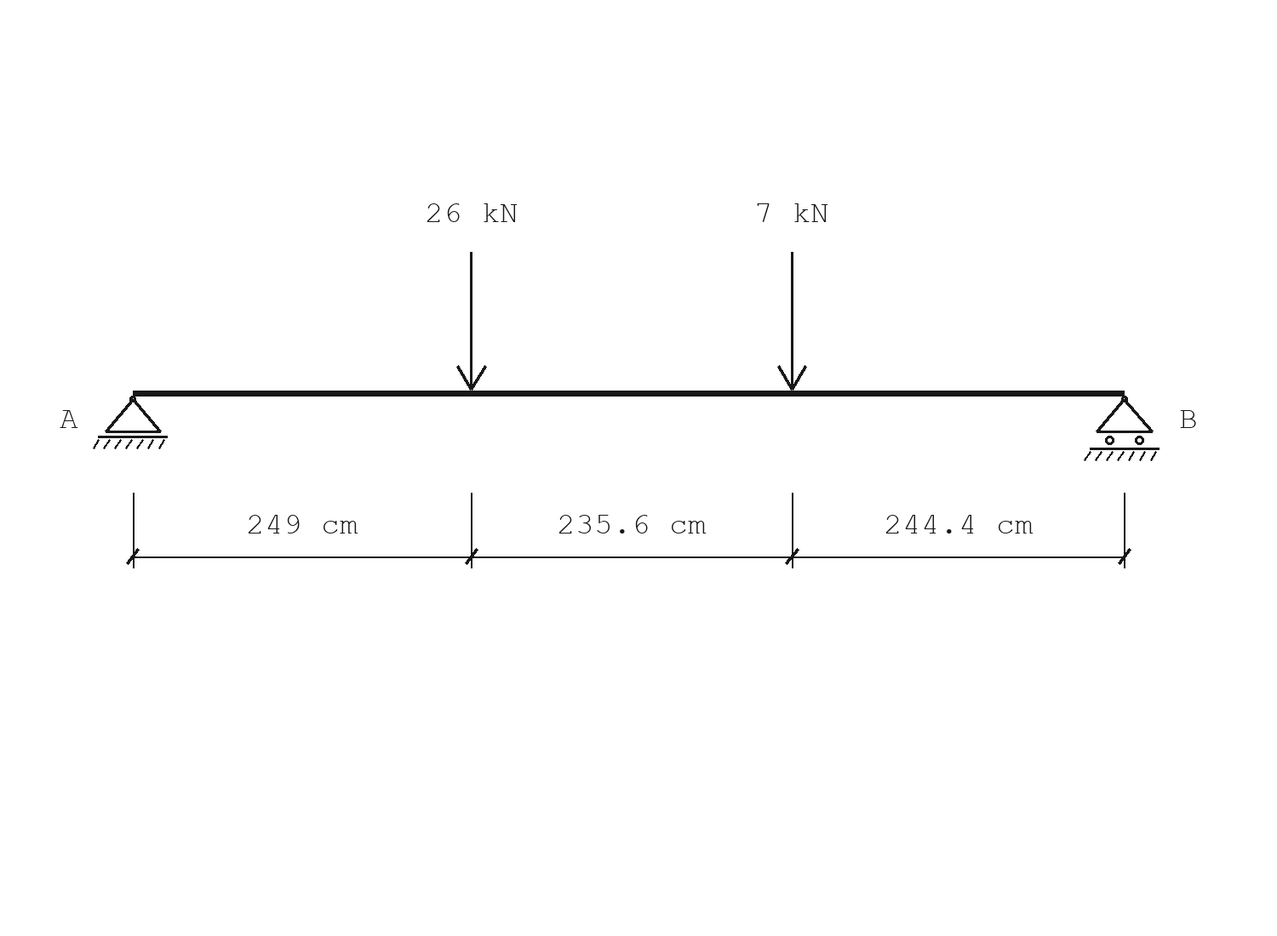pin_support: (93, 396, 168, 449)
point_load: (456, 252, 487, 391), (777, 252, 807, 391)
roller_support: (1084, 396, 1160, 461)
